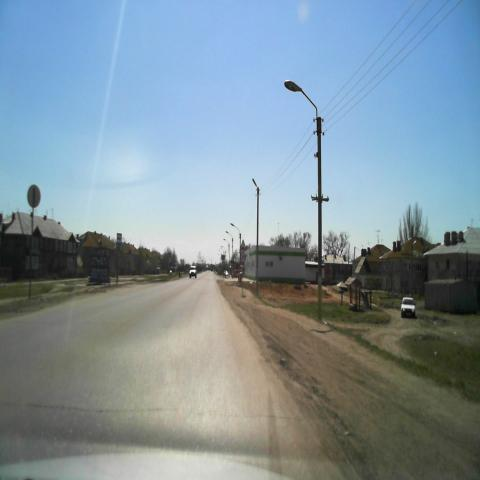5_16: (116, 232, 122, 248)
